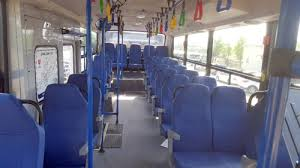seat: (171, 84, 249, 165)
